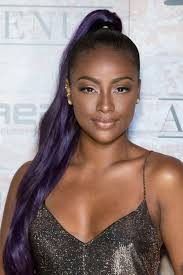black_female: (73, 45, 143, 148)
